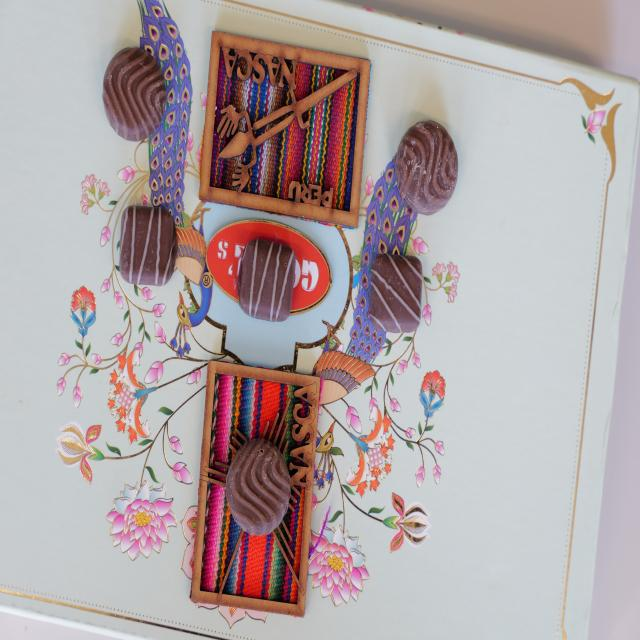Noir_authentique: (228, 435, 294, 536), (104, 44, 168, 142), (395, 117, 457, 213)
Stracciatella: (237, 236, 297, 322), (118, 202, 176, 286), (367, 250, 424, 329)
